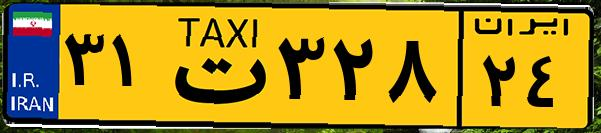1: (110, 28, 158, 98)
2: (330, 28, 385, 110), (475, 38, 525, 113)
3: (270, 28, 330, 110), (57, 26, 110, 100)
4: (525, 38, 570, 115)
8: (385, 28, 445, 110)
ت: (158, 12, 270, 120)
